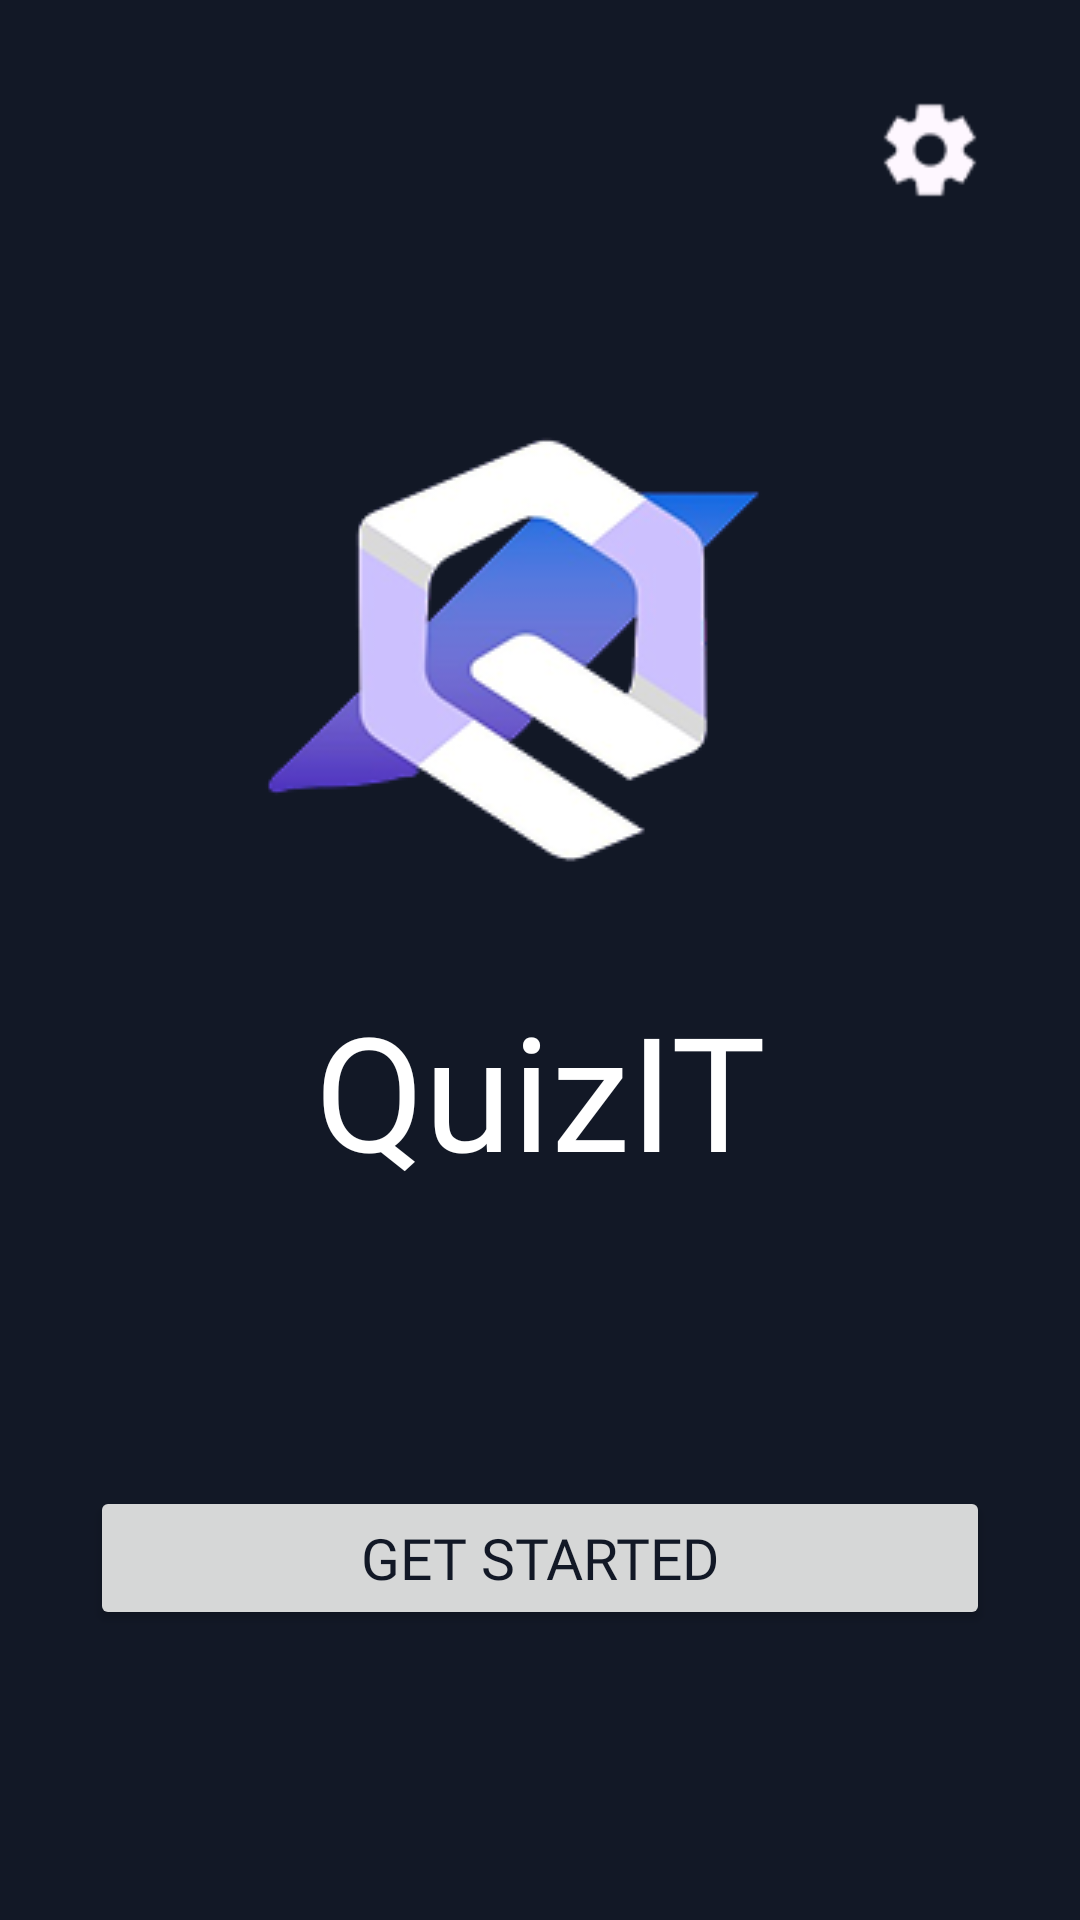

Locate icon controls on the screen. Image size 1080 x 1920, boxes as rect(x1, y1, x2, y2).
settings: rect(884, 103, 976, 197)
